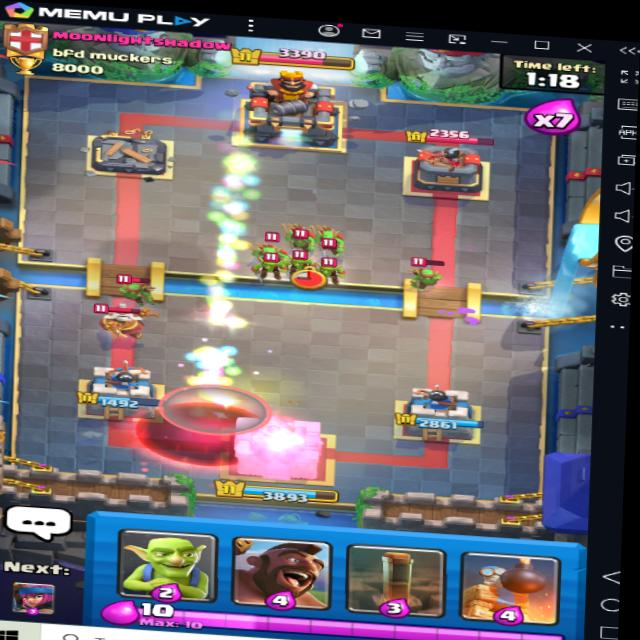goblin: (284, 250, 317, 282), (313, 256, 346, 285), (255, 254, 282, 282)
monk: (87, 297, 155, 340)
spear-goblin: (115, 271, 159, 305), (405, 254, 444, 291), (278, 220, 323, 252), (316, 222, 355, 258), (254, 238, 284, 263)
void: (122, 390, 306, 481)
